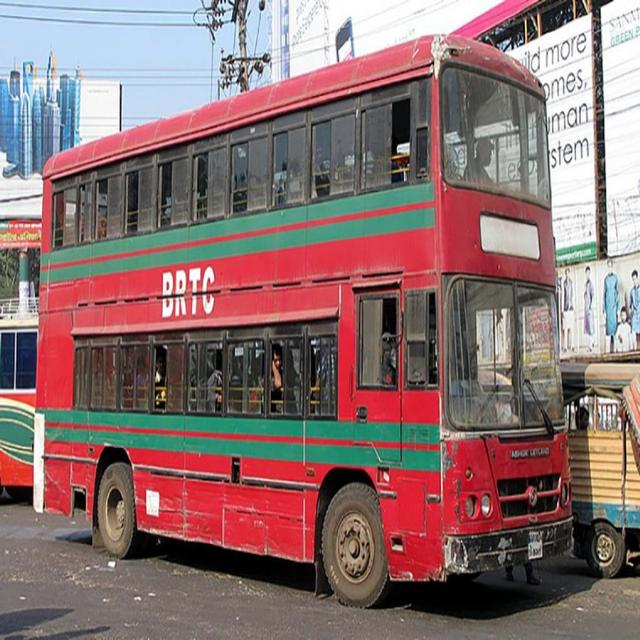Double decker: (28, 24, 574, 607)
